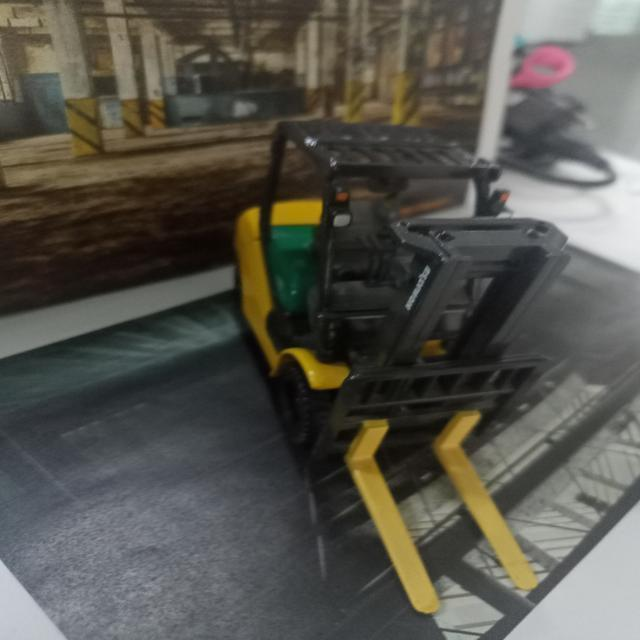forklift: (219, 119, 567, 477)
